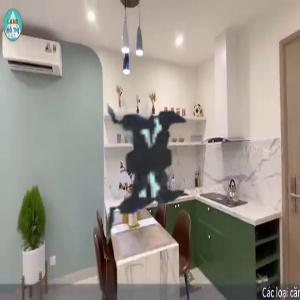drone: (7, 29, 274, 296)
